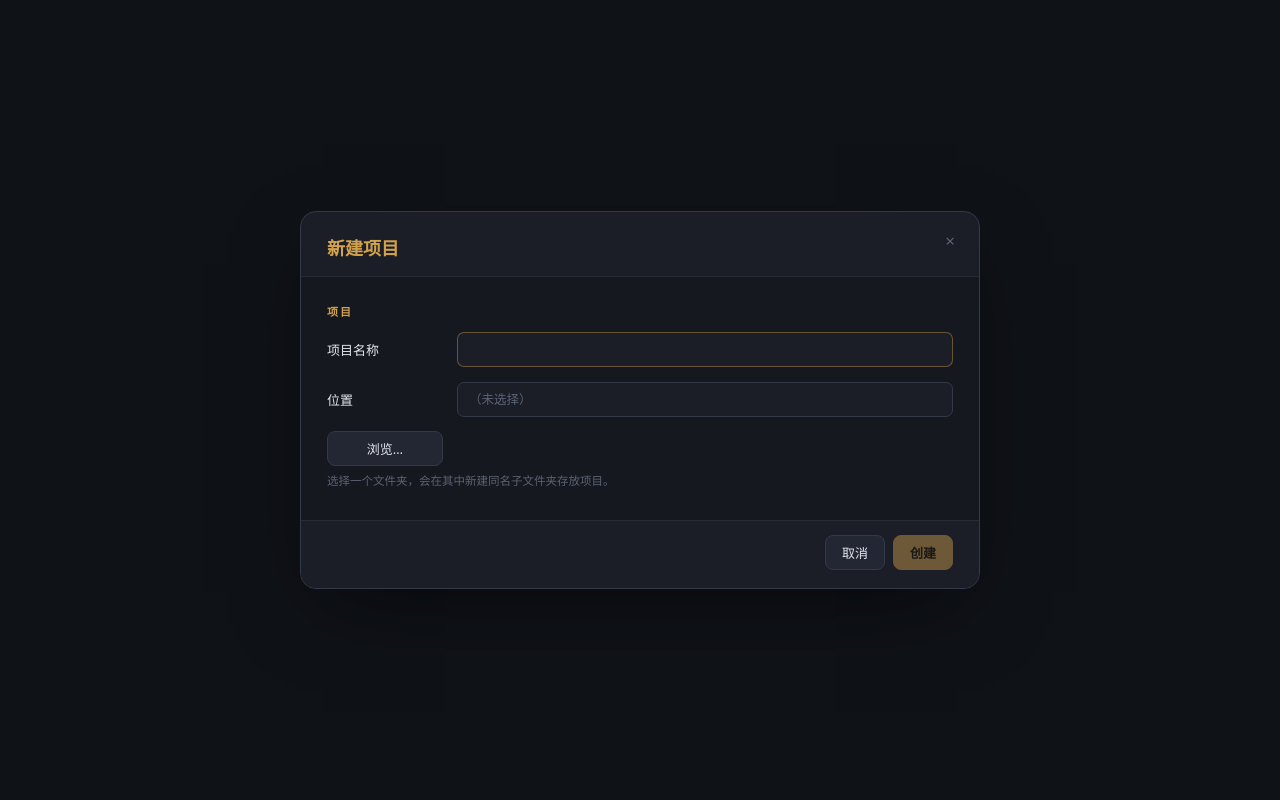
it: NewProjectDialog › 创建进行中（busy）→「浏览…」按钮与项目名称框禁用
The width and height of the screenshot is (1280, 800).
In the field named "项目名称": (705, 349) [457,332,953,367], type "雾港"
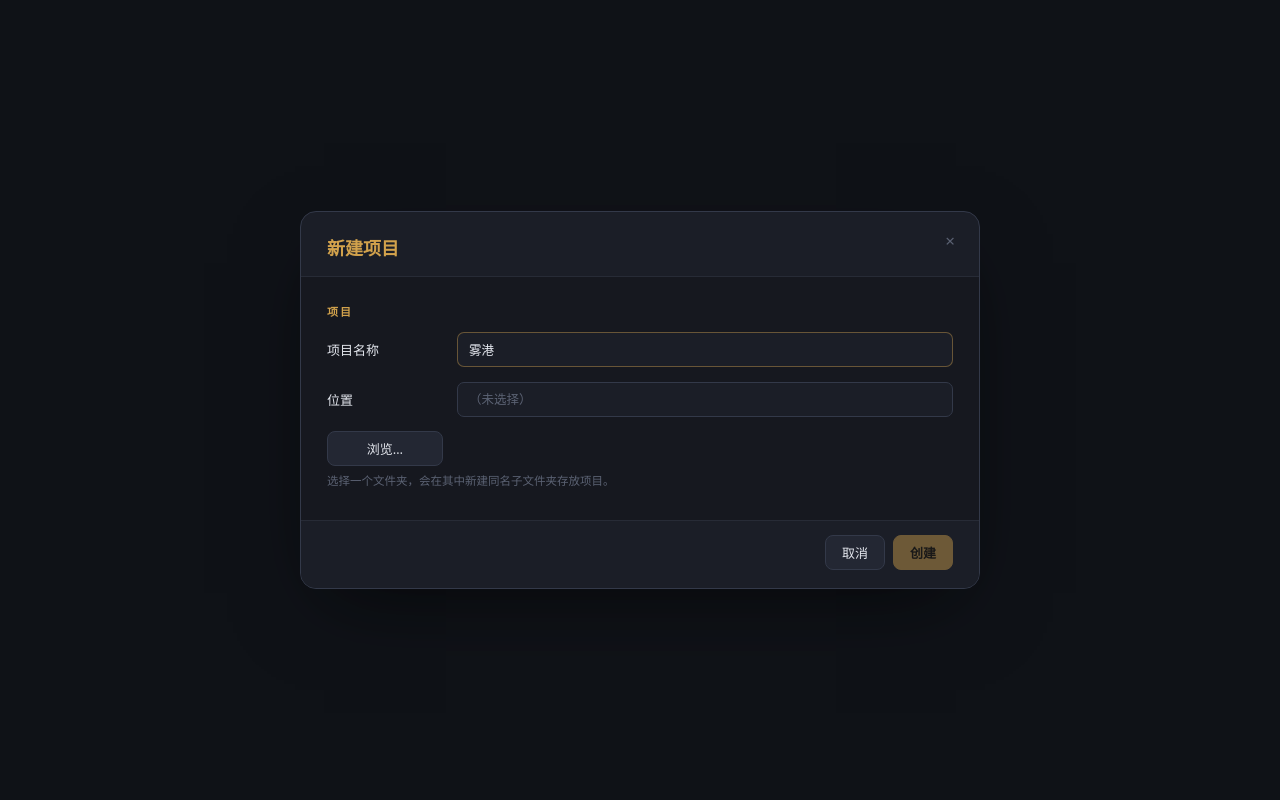
Click the button "浏览…": (385, 448) [327,431,443,466]
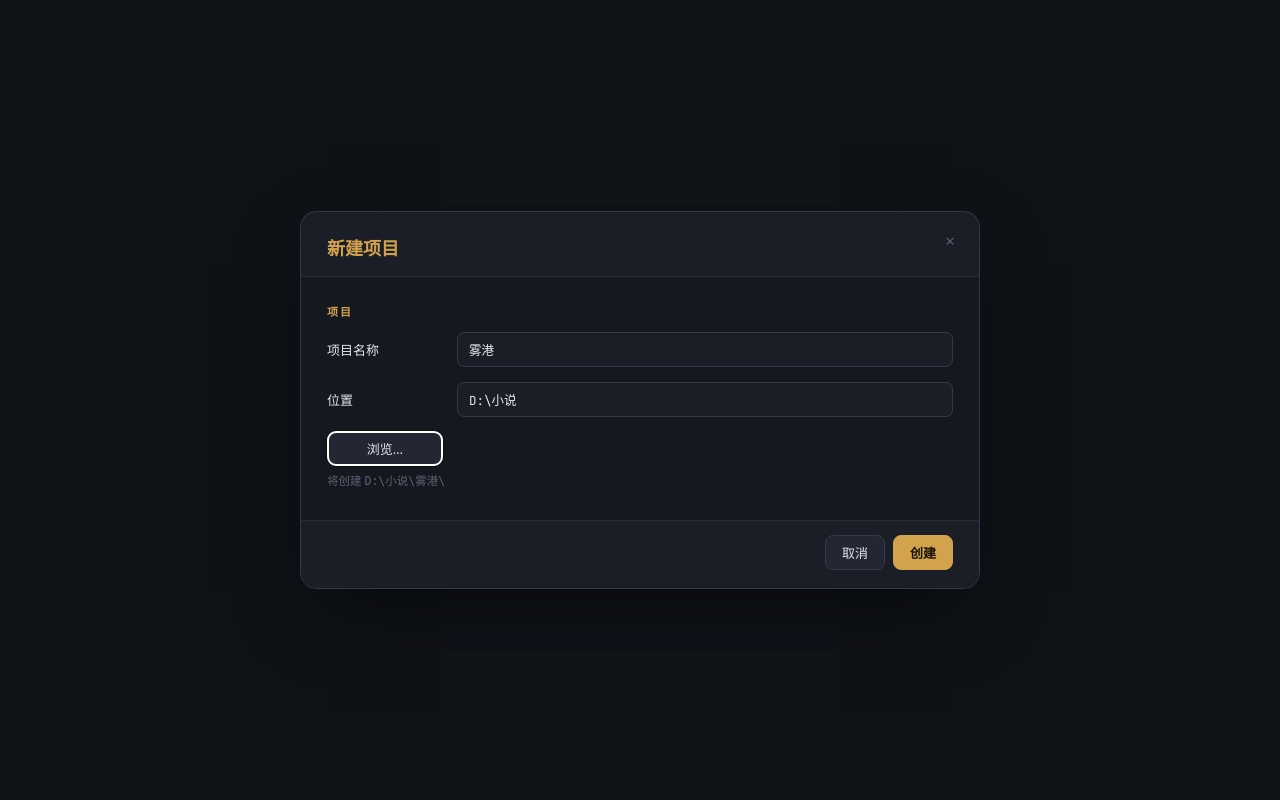
Expected: the button "创建" is enabled
Click the button "创建": (923, 553) [893,535,953,570]
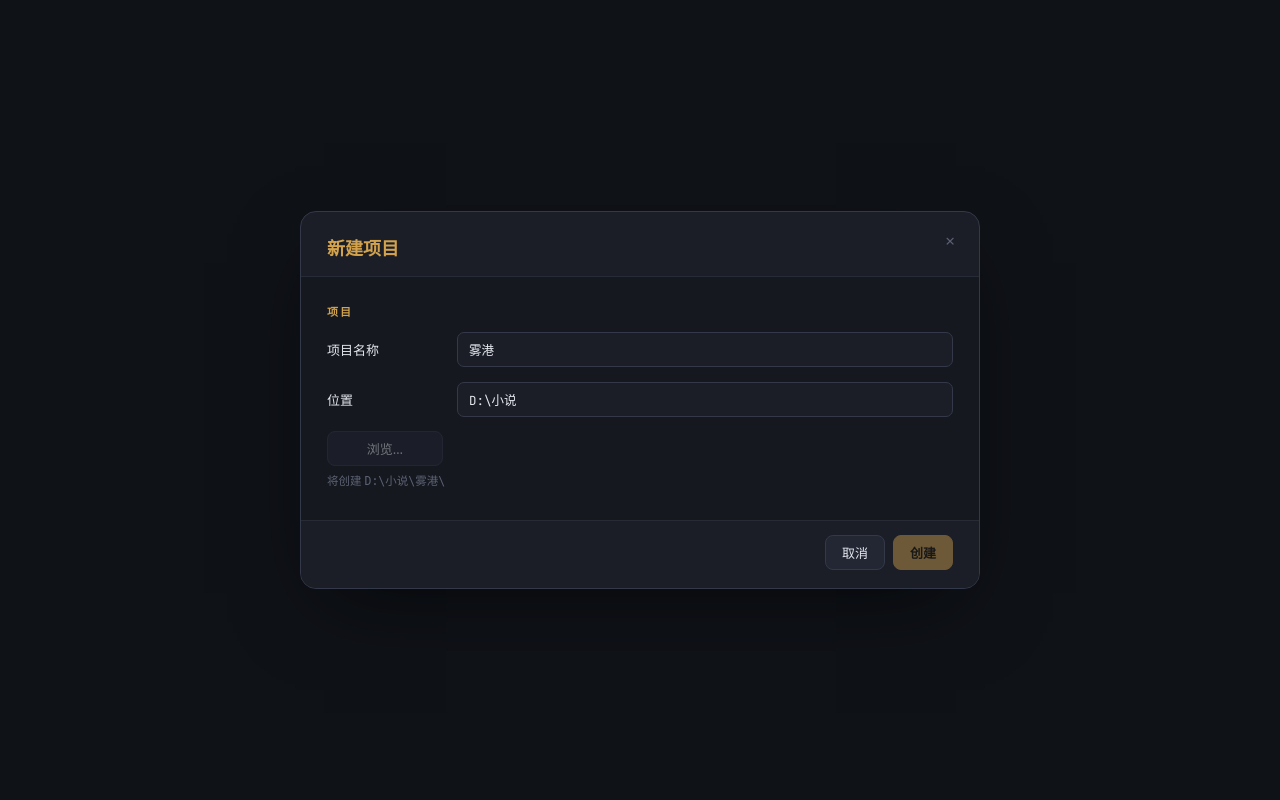
Expected: the field named "项目名称" is disabled, [457,332,953,367]
Expected: the button "浏览…" is disabled, [327,431,443,466]
